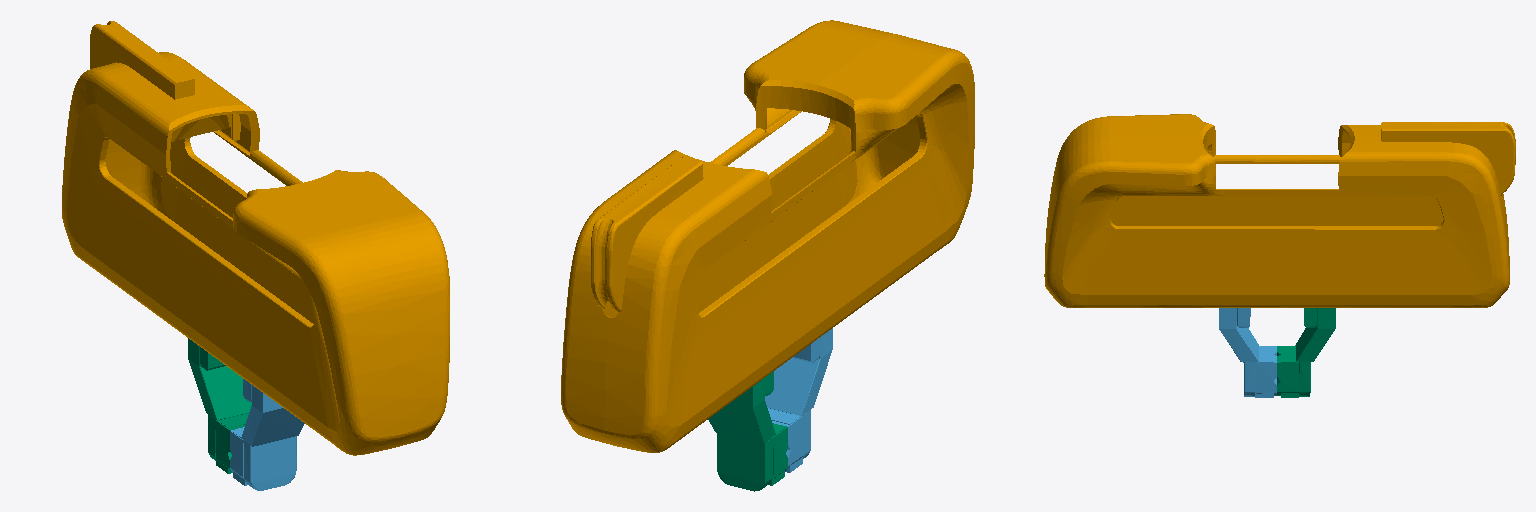
robot.urdf — panda:
<?xml version="1.0" encoding="utf-8" ?>
<robot name="panda">
	<!-- Panda link 0 -->
	<link name="panda_link0">
		<visual>
			<geometry>
				<mesh filename="franka/Franka_Link0_assy OBJ/Franka_Link0_assy.obj" />
				<!--<mesh filename="asset/panda/link0.stl" />-->
			</geometry>
		</visual>
		<inertial>
			<origin rpy="0 0 0" xyz="0 0 0" />
			<mass value="2.9411" />
			<inertia ixx="0.00315" ixy="0.0" ixz="0.0" iyy="0.00388" iyz="0.0" izz="0.004285" />
		</inertial>
	</link>
	<!-- Joint 1 from link 0 to 1 -->
	<joint name="panda_joint1" type="revolute">
		<origin rpy="0 0 0" xyz="0 0 0.333" />
		<parent link="panda_link0" />
		<child link="panda_link1" />
		<axis xyz="0 0 1" />
		<!-- <limit effort="87" lower="-2.8973" upper="2.8973" velocity="2.1750" /> -->
		<dynamics damping="1.0" />
	</joint>
	<!-- Panda link 1 -->
	<link name="panda_link1">
		<visual>
			<geometry>
				<mesh filename="franka/Franka_Link1_assy OBJ/Franka_Link1_assy.obj" />
				<!--<mesh filename="asset/panda/link1.stl" />-->
			</geometry>
		</visual>
		<inertial>
			<origin rpy="0 0 0" xyz="0.003875 0.002081 -0.04762" />
			<mass value="4.970684" />
			<inertia ixx="0.70337" ixy="0" ixz="0" iyy="0.70661" iyz="0" izz="0.0091170" />
		</inertial>
	</link>
	<!-- Joint 2 from link 1 to 2 -->
	<joint name="panda_joint2" type="revolute">
		<origin rpy="-1.57079632679 0 0" xyz="0 0 0" />
		<parent link="panda_link1" />
		<child link="panda_link2" />
		<axis xyz="0 0 1" />
		<!-- <limit effort="87" lower="-1.7628" upper="1.7628" velocity="2.1750" /> -->
		<dynamics damping="1.0" />
	</joint>
	<!-- Panda link 2 -->
	<link name="panda_link2">
		<visual>
			<geometry>
				<mesh filename="franka/Franka_Link2_assy OBJ/Franka_Link2_assy.obj" />
				<!--<mesh filename="asset/panda/link2.stl" />-->
			</geometry>
		</visual>
		<inertial>
			<origin rpy="0 0 0" xyz="-0.003141 -0.02872 0.003495" />
			<mass value="0.646926" />
			<inertia ixx="0.0079620" ixy="0.0" ixz="0.0" iyy="0.02811" iyz="0.0" izz="0.025995" />
		</inertial>
	</link>
	<!-- Joint 3 from link 2 to 3 -->
	<joint name="panda_joint3" type="revolute">
		<origin rpy="1.57079632679 0 0" xyz="0 -0.316 0" />
		<parent link="panda_link2" />
		<child link="panda_link3" />
		<axis xyz="0 0 1" />
		<!-- <limit effort="87" lower="-2.8973" upper="2.8973" velocity="2.1750" /> -->
		<dynamics damping="1.0" />
	</joint>
	<!-- Panda link 3 -->
	<link name="panda_link3">
		<visual>
			<geometry>
				<mesh filename="franka/Franka_Link3_assy OBJ/Franka_Link3_assy.obj" />
				<!--<mesh filename="asset/panda/link3.stl" />-->
			</geometry>
		</visual>
		<inertial>
			<origin rpy="0 0 0" xyz="2.7518e-2 3.9252e-2 -6.6502e-2" />
			<mass value="3.228604" />
			<inertia ixx="0.037242" ixy="0.0" ixz="0.0" iyy="0.036155" iyz="0.0" izz="0.01083" />
		</inertial>
	</link>
	<!-- Joint 4 from link 3 to 4 -->
	<joint name="panda_joint4" type="revolute">
		<origin rpy="1.57079632679 0 0" xyz="0.0825 0 0" />
		<parent link="panda_link3" />
		<child link="panda_link4" />
		<axis xyz="0 0 1" />
		<!-- <limit effort="87" lower="-3.0718" upper="-0.0698" velocity="2.1750" /> -->
		<dynamics damping="1.0" />
	</joint>
	<!-- Panda link 4 -->
	<link name="panda_link4">
		<visual>
			<geometry>
				<mesh filename="franka/Franka_Link4_assy OBJ/Franka_Link4_assy.obj" />
				<!--<mesh filename="asset/panda/link4.stl" />-->
			</geometry>
		</visual>
		<inertial>
			<origin rpy="0 0 0" xyz="-5.317e-2 1.04419e-1 2.7454e-2" />
			<mass value="3.587895" />
			<inertia ixx="2.5853e-2" ixy="0.0" ixz="0.0" iyy="1.9552e-2" iyz="0.0" izz="8.627e-3" />
		</inertial>
	</link>
	<!-- Joint 5 from link 4 to 5 -->
	<joint name="panda_joint5" type="revolute">
		<origin rpy="-1.57079632679 0 0" xyz="-0.0825 0.384 0" />
		<parent link="panda_link4" />
		<child link="panda_link5" />
		<axis xyz="0 0 1" />
		<!-- <limit effort="12" lower="-2.8973" upper="2.8973" velocity="2.6100" /> -->
		<dynamics damping="1.0" />
	</joint>
	<!-- Panda link 5 -->
	<link name="panda_link5">
		<visual>
			<geometry>
				<mesh filename="franka/Franka_Link5_assy OBJ/Franka_Link5_assy.obj" />
				<!--<mesh filename="asset/panda/link5.stl" />-->
			</geometry>
		</visual>
		<inertial>
			<origin rpy="0 0 0" xyz="-1.1953e-2 4.1065e-2 -3.8437e-2" />
			<mass value="1.225946" />
			<inertia ixx="3.5549e-2" ixy="0.0" ixz="0.0" iyy="2.9474e-2" iyz="0.0" izz="8.627e-3" />
		</inertial>
	</link>
	<!-- Joint 6 from link 5 to 6 -->
	<joint name="panda_joint6" type="revolute">
		<origin rpy="1.57079632679 0 0" xyz="0 0 0" />
		<parent link="panda_link5" />
		<child link="panda_link6" />
		<axis xyz="0 0 1" />
		<!-- <limit effort="12" lower="-0.0175" upper="3.7525" velocity="2.6100" /> -->
		<dynamics damping="1.0" />
	</joint>
	<!-- Panda link 6 -->
	<link name="panda_link6">
		<visual>
			<geometry>
				<mesh filename="franka/Franka_Link6_assy OBJ/Franka_Link6_assy.obj" />
				<!--<mesh filename="asset/panda/link6.stl" />-->
			</geometry>
		</visual>
		<inertial>
			<origin rpy="0 0 0" xyz="6.0149e-2 -1.4117e-2 -1.0517e-2" />
			<mass value="1.666555" />
			<inertia ixx="1.964e-3" ixy="0.0" ixz="0.0" iyy="4.354e-3" iyz="0.0" izz="5.433e-3" />
		</inertial>
	</link>
	<!-- Joint 7 from link 6 to 7 -->
	<joint name="panda_joint7" type="revolute">
		<origin rpy="1.57079632679 0 0" xyz="0.088 0 0" />
		<parent link="panda_link6" />
		<child link="panda_link7" />
		<axis xyz="0 0 1" />
		<!-- <limit effort="12" lower="-2.8973" upper="2.8973" velocity="2.6100" /> -->
		<dynamics damping="1.0" />
	</joint>
	<!-- Panda link 7 -->
	<link name="panda_link7">
		<visual>
			<origin rpy="0 0 0" xyz="0 0 0" />
			<geometry>
				<mesh filename="franka/Franka_Link7_assy OBJ/Franka_Link7_assy.obj" />
				<!--<mesh filename="asset/panda/link7.stl" />-->
				<!--<box size="0.08 0.08 0.08"/>-->
			</geometry>
		</visual>
		<inertial>
			<origin rpy="0 0 0" xyz="1.0517e-2 -4.252e-3 6.1597e-2" />
			<mass value="7.35522e-01" />
			<inertia ixx="1.2516e-2" ixy="0.0" ixz="0.0" iyy="1.0027e-2" iyz="0.0" izz="4.815e-3" />
		</inertial>
	</link>
	<!-- Fixed joint from link 7 to hand -->
	<joint name="panda_joint7" type="fixed">
		<origin rpy="0 0 0" xyz="0 0 0.107" />
		<parent link="panda_link7" />
		<child link="panda_hand" />
		<axis xyz="0 0 1" />
	</joint>
	<!--Panda hand-->
	<link name="panda_hand">
		<visual>
			<origin rpy="0 0 0" xyz="0 0 0" />
			<geometry>
				<mesh filename="franka/hand_3.obj" />
				<!--<mesh filename="asset/panda/hand.stl" />-->
			</geometry>
		</visual>
		<inertial>
			<origin rpy="0 0 0" xyz="-0.01 0 0.03" />
			<mass value="0.73"/>
			<inertia ixx="0.001" ixy="0.0" ixz="0.0" iyy="0.0025" iyz="0.0" izz="0.0017" />
		</inertial>
	</link>
	<!-- Prismatic joint from hand to left finger -->
	<joint name="panda_joint8" type="prismatic">
		<origin rpy="0 0 0" xyz="0 0 0.0584" />
		<parent link="panda_hand" />
		<child link="panda_left_finger" />
		<axis xyz="0 1 0" />
	</joint>
	<!--Panda left finger-->
	<link name="panda_left_finger">
		<visual>
			<origin rpy="0 0 0" xyz="0 0 0" />
			<geometry>
				<mesh filename="franka/finger_0.obj" />
			</geometry>
		</visual>
		<visual>
			<origin rpy="0 0 0" xyz="0 0 0" />
			<geometry>
				<mesh filename="franka/finger_1.obj" />
			</geometry>
		</visual>
		<visual>
			<origin rpy="0 0 0" xyz="0 0.0055 0.0445" />
			<geometry>
				<box size="0.017 0.008 0.017"/>
			</geometry>
			<!-- <material name="">
				<color rgba="0 1 0 1"/>
			</material> -->
		</visual>
		<collision>
			<origin rpy="0 0 0" xyz="0.005 0.005 0.0445" />
			<geometry>
				<box size="0.007 0.008 0.017"/>
			</geometry>
		</collision>
		<collision>
			<origin rpy="0 0 0" xyz="-0.005 0.005 0.0445" />
			<geometry>
				<box size="0.007 0.008 0.017"/>
			</geometry>
		</collision>
		<!--<visual>
			<origin rpy="0 0 0" xyz="0 0.0055 0.04875" />
			<geometry>
				<box size="0.017 0.008 0.0085"/>
			</geometry>
			<material name="">
				<color rgba="0 1 0 1"/>
			</material>
		</visual>
		<visual>
			<origin rpy="0 0 0" xyz="0 0.0055 0.04025" />
			<geometry>
				<box size="0.017 0.008 0.0085"/>
			</geometry>
			<material name="">
				<color rgba="0 1 0 1"/>
			</material>
		</visual>
		<collision>
			<origin rpy="0 0 0" xyz="0 0.0055 0.04875" />
			<geometry>
				<box size="0.017 0.008 0.0085"/>
			</geometry>
		</collision>
		<collision>
			<origin rpy="0 0 0" xyz="0 0.0055 0.04025" />
			<geometry>
				<box size="0.017 0.008 0.0085"/>
			</geometry>
		</collision>-->
		<inertial>
			<origin rpy="0 0 0" xyz="0 0 0" />
			<mass value="0.015" />
			<inertia ixx="2.375e-6" ixy="0.0" ixz="0.0" iyy="2.375e-6" iyz="0.0" izz="7.5e-7" />
		</inertial>
	</link>
	<!-- Prismatic joint from hand to right finger -->
	<joint name="panda_joint9" type="prismatic">
		<origin rpy="0 0 3.1415926535" xyz="0 0 0.0584" />
		<parent link="panda_hand" />
		<child link="panda_right_finger" />
		<axis xyz="0 1 0" />
	</joint>
	<!--Panda right finger-->
	<link name="panda_right_finger">
		<visual>
			<origin rpy="0 0 0" xyz="0 0 0" />
			<geometry>
				<mesh filename="franka/finger_0.obj" />
			</geometry>
		</visual>
		<visual>
			<origin rpy="0 0 0" xyz="0 0 0" />
			<geometry>
				<mesh filename="franka/finger_1.obj" />
			</geometry>
		</visual>
		<visual>
			<origin rpy="0 0 0" xyz="0 0.0055 0.0445" />
			<geometry>
				<box size="0.017 0.008 0.017"/>
			</geometry>
			<!-- <material name="">
				<color rgba="0 1 0 1"/>
			</material> -->
		</visual>
		<collision>
			<origin rpy="0 0 0" xyz="0.005 0.005 0.0445" />
			<geometry>
				<box size="0.007 0.008 0.017"/>
			</geometry>
		</collision>
		<collision>
			<origin rpy="0 0 0" xyz="-0.005 0.005 0.0445" />
			<geometry>
				<box size="0.007 0.008 0.017"/>
			</geometry>
		</collision>
		<!--<visual>
			<origin rpy="0 0 0" xyz="0 0.0055 0.04875" />
			<geometry>
				<box size="0.017 0.008 0.0085"/>
			</geometry>
			<material name="">
				<color rgba="0 1 0 1"/>
			</material>
		</visual>
		<visual>
			<origin rpy="0 0 0" xyz="0 0.0055 0.04025" />
			<geometry>
				<box size="0.017 0.008 0.0085"/>
			</geometry>
			<material name="">
				<color rgba="0 1 0 1"/>
			</material>
		</visual>
		<collision>
			<origin rpy="0 0 0" xyz="0 0.0055 0.04875" />
			<geometry>
				<box size="0.017 0.008 0.0085"/>
			</geometry>
		</collision>
		<collision>
			<origin rpy="0 0 0" xyz="0 0.0055 0.04025" />
			<geometry>
				<box size="0.017 0.008 0.0085"/>
			</geometry>
		</collision>-->
		<inertial>
			<origin rpy="0 0 0" xyz="0 0 0" />
			<mass value="0.015" />
			<inertia ixx="2.375e-6" ixy="0.0" ixz="0.0" iyy="2.375e-6" iyz="0.0" izz="7.5e-7" />
		</inertial>
	</link>
</robot>

--- What the picture shows (computed from the rendered views, not written in the file) ---
Views: 3 orthographic renders of the robot side by side, from view 1: azimuth 30°, elevation 25°; view 2: azimuth 150°, elevation 25°; view 3: azimuth 270°, elevation 25°.
Model panda with 11 links and 10 joints (7 revolute, 2 prismatic, 1 fixed), rooted at panda_link0, posed every joint at zero.
Visible links, largest first — view 1: panda_hand, panda_left_finger, panda_right_finger; view 2: panda_hand, panda_right_finger, panda_left_finger; view 3: panda_hand, panda_right_finger, panda_left_finger.
Link boxes in pixels (x1=…): panda_hand: x1=62, y1=21, x2=449, y2=455; panda_left_finger: x1=230, y1=379, x2=304, y2=490; panda_right_finger: x1=188, y1=338, x2=251, y2=473; panda_hand: x1=561, y1=20, x2=974, y2=452; panda_right_finger: x1=708, y1=371, x2=787, y2=491; panda_left_finger: x1=765, y1=328, x2=832, y2=472; panda_hand: x1=1044, y1=114, x2=1515, y2=307; panda_right_finger: x1=1277, y1=308, x2=1335, y2=397; panda_left_finger: x1=1219, y1=308, x2=1276, y2=397.
Size in the robot's own frame: 0.0572 by 0.2035 by 0.1268 metres.
5 mesh visuals loaded from 11 distinct referenced files (3 OBJ); not drawn: 8 (reference not matched to a file when rendering).